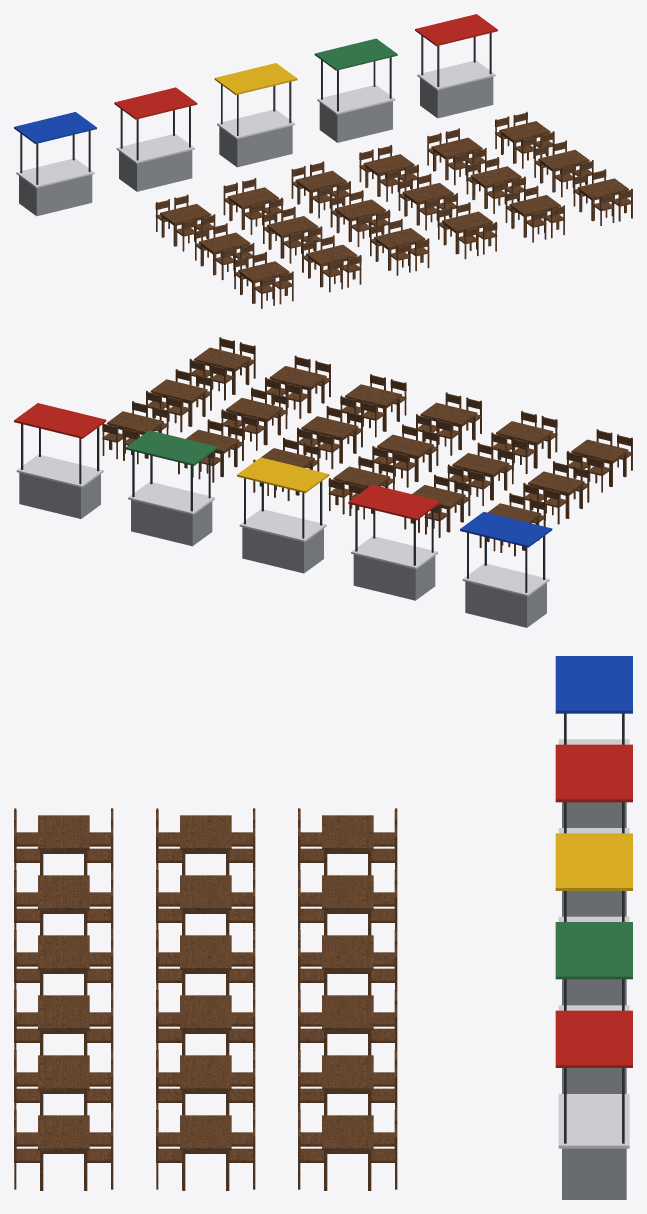
The model's file is i_night_market_row.gltf.
3 views of the same model, one above another, from view 1: azimuth 30°, elevation 25°; view 2: azimuth 150°, elevation 25°; view 3: azimuth 270°, elevation 25° (orthographic). The views are drawn at different scales.
Parts seen in each view (by area): view 1: I_night_market_row; view 2: I_night_market_row; view 3: I_night_market_row.
Part boxes in pixels (x1,y1,x2,y2): I_night_market_row: (14, 14, 632, 308); I_night_market_row: (14, 337, 632, 627); I_night_market_row: (14, 656, 632, 1199).
Bounding box in the file's own units: 15 × 2.35 × 9.59.
8 materials, 1 textured.
